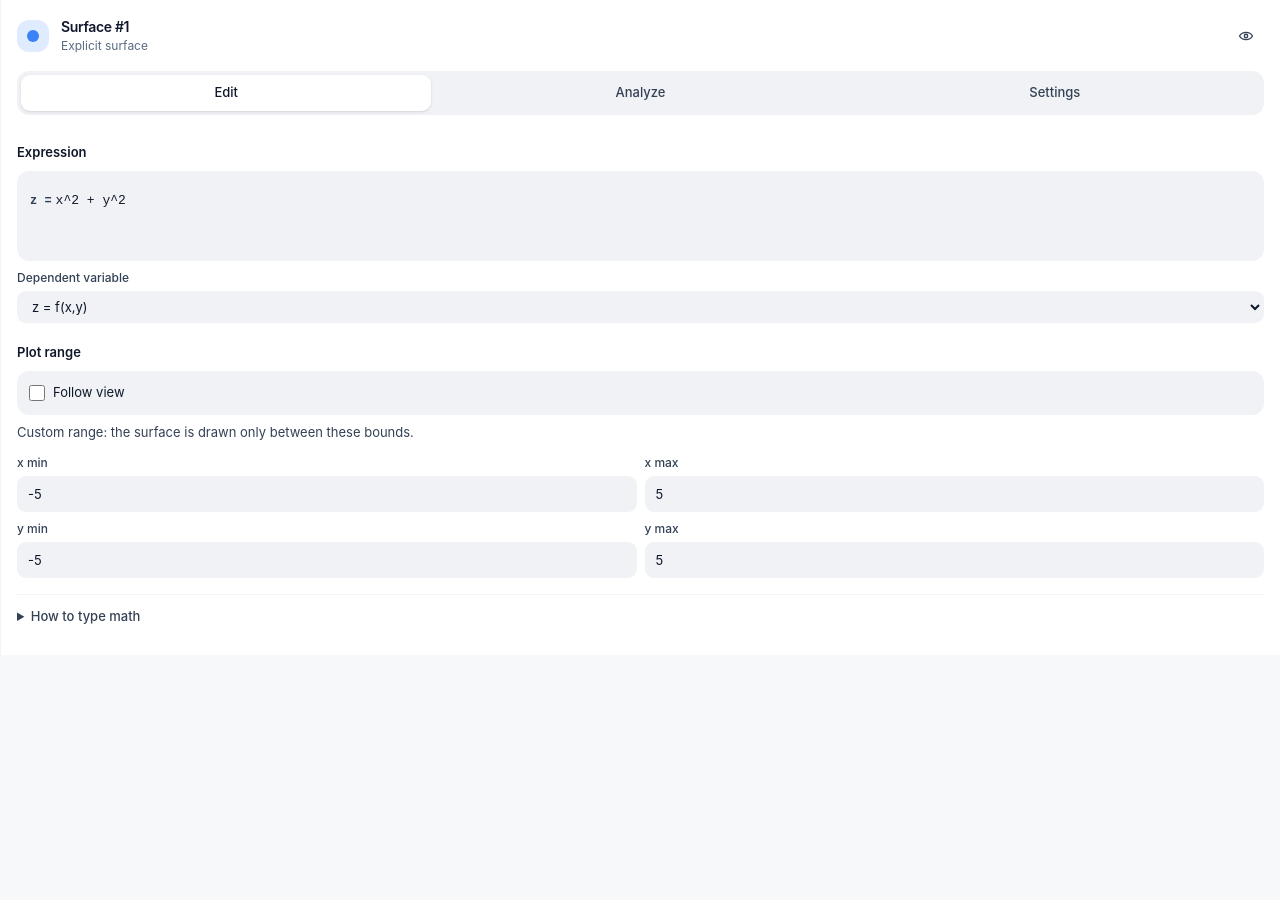
InspectorPanel tablist › shows definition on Object and contextual analysis on Analyze for a surface
expect the field named "Surface expression z = f(x,y)" is shown: met, box [56,184,1251,216]
expect the number field labelled "x min" is shown: met, box [17,476,636,512]
Click the tab "Analyze". click: (640, 93)
box: [435,75,846,111]
(page scrolled)
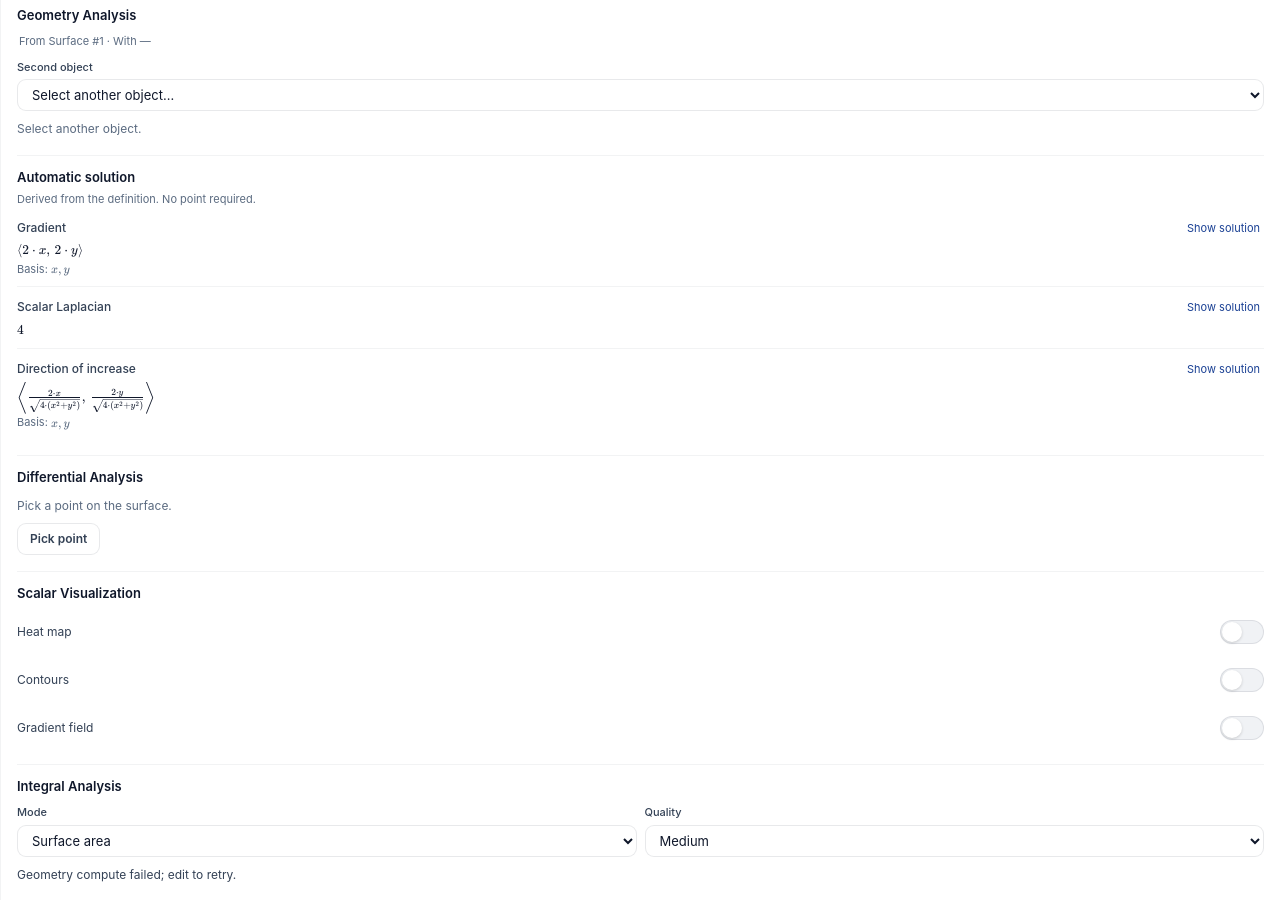
expect the element with test id "integral-analysis-section" is shown: met, box [17,777,1264,884]
